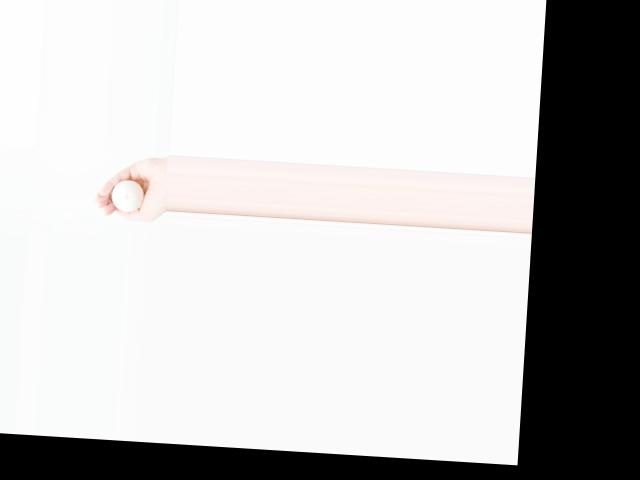egg: (110, 179, 143, 211)
